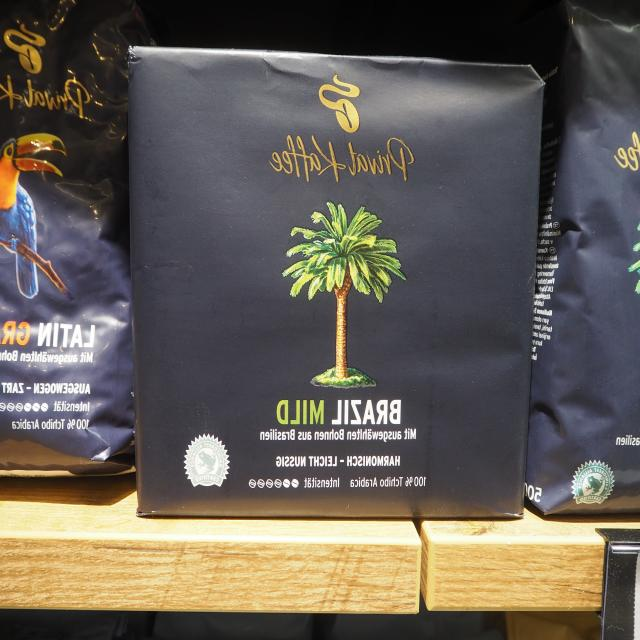BM Gemahlen: (124, 42, 554, 522)
